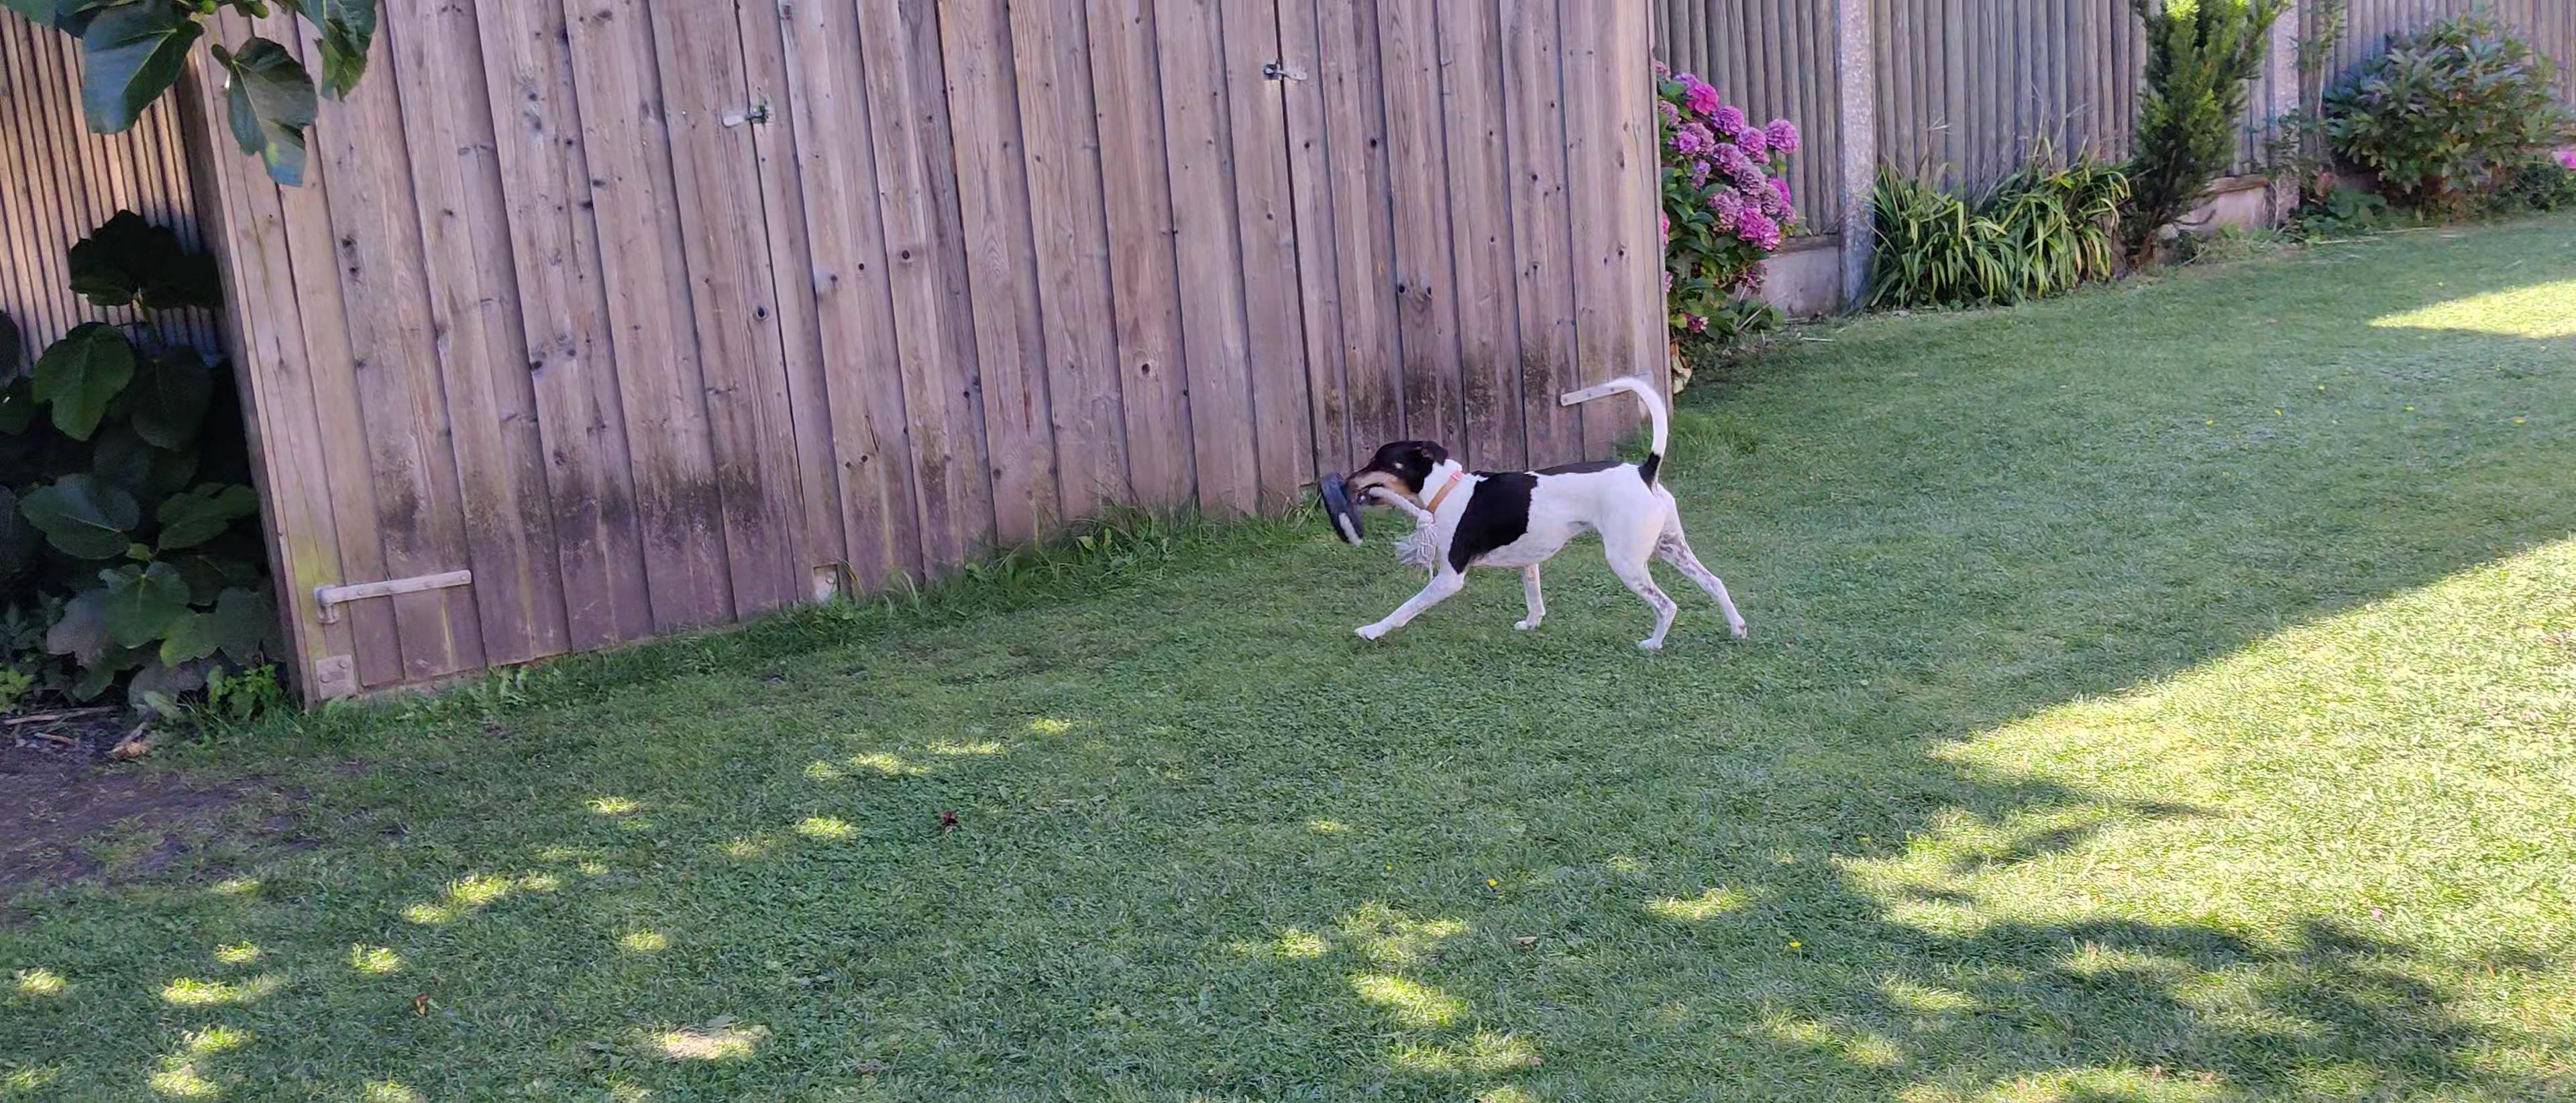Dog: (1334, 363, 1753, 654)
